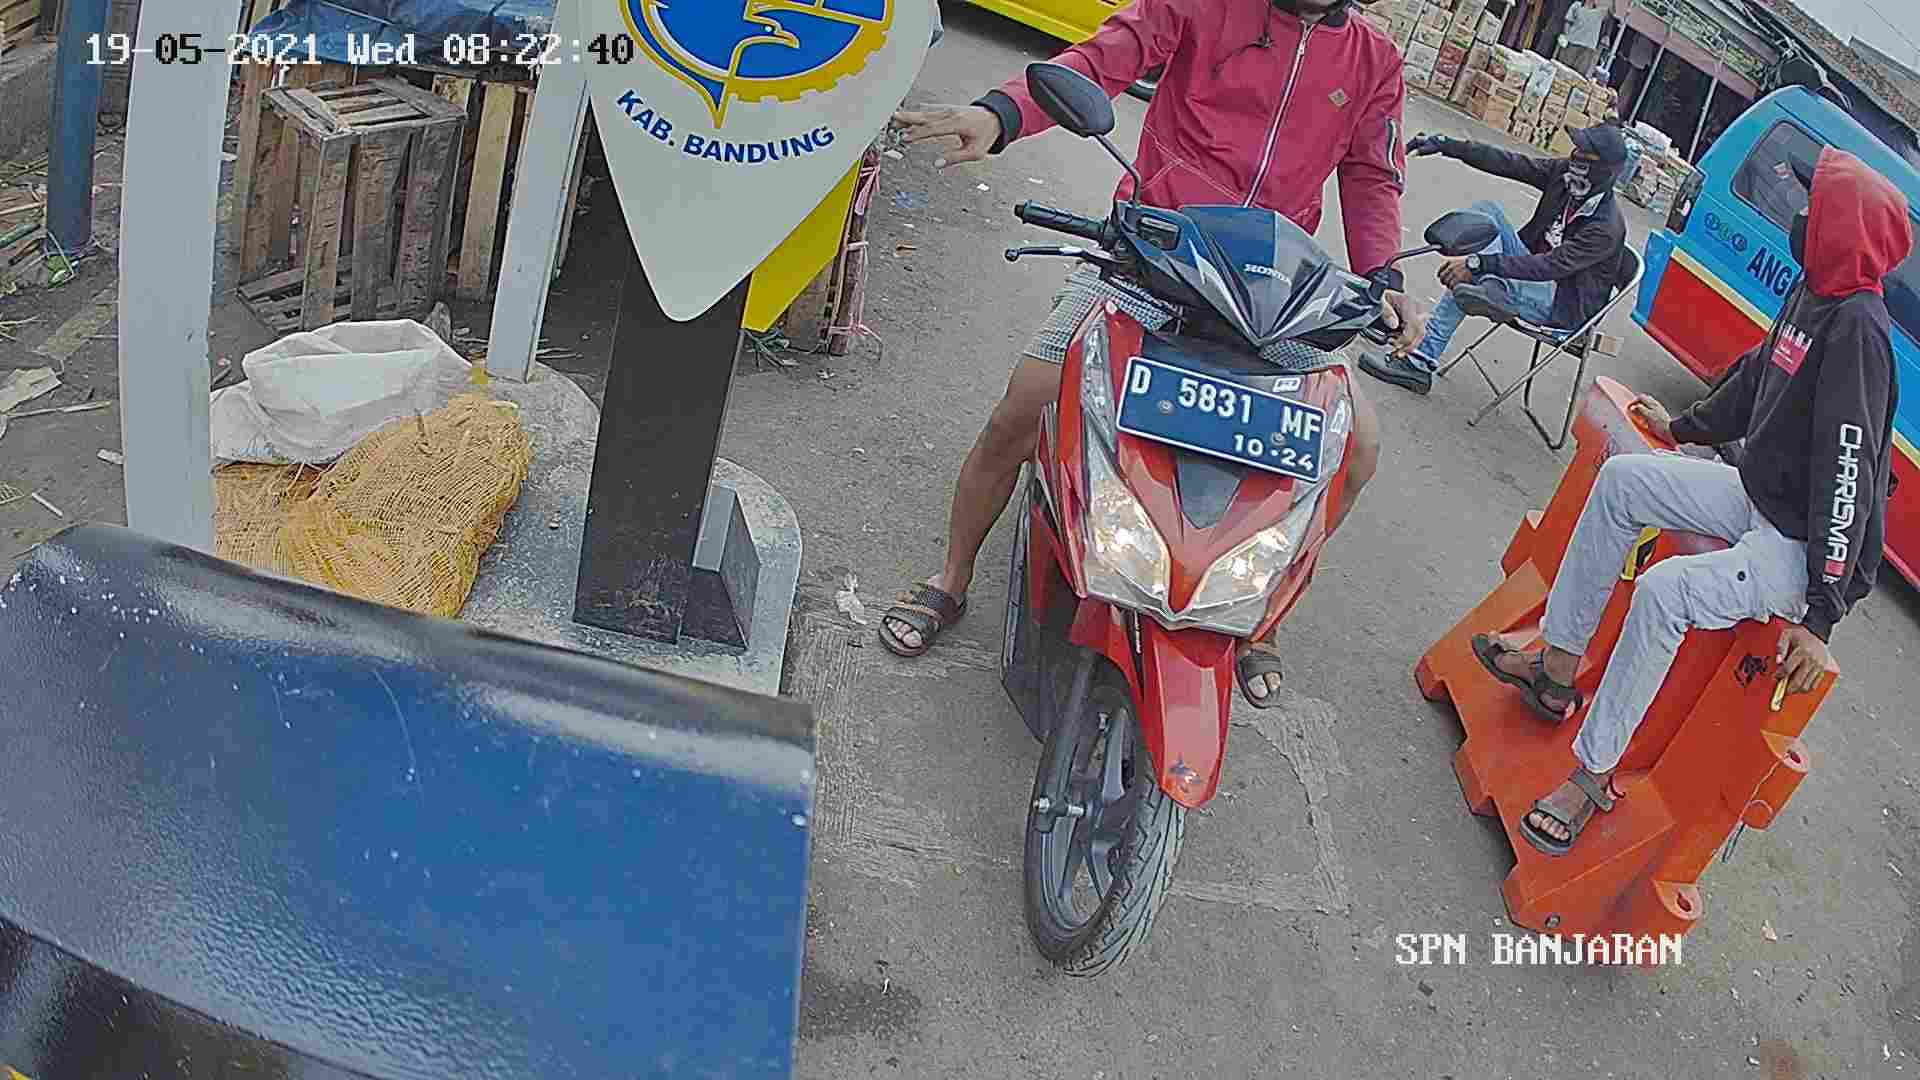motor: (964, 160, 1418, 1015)
